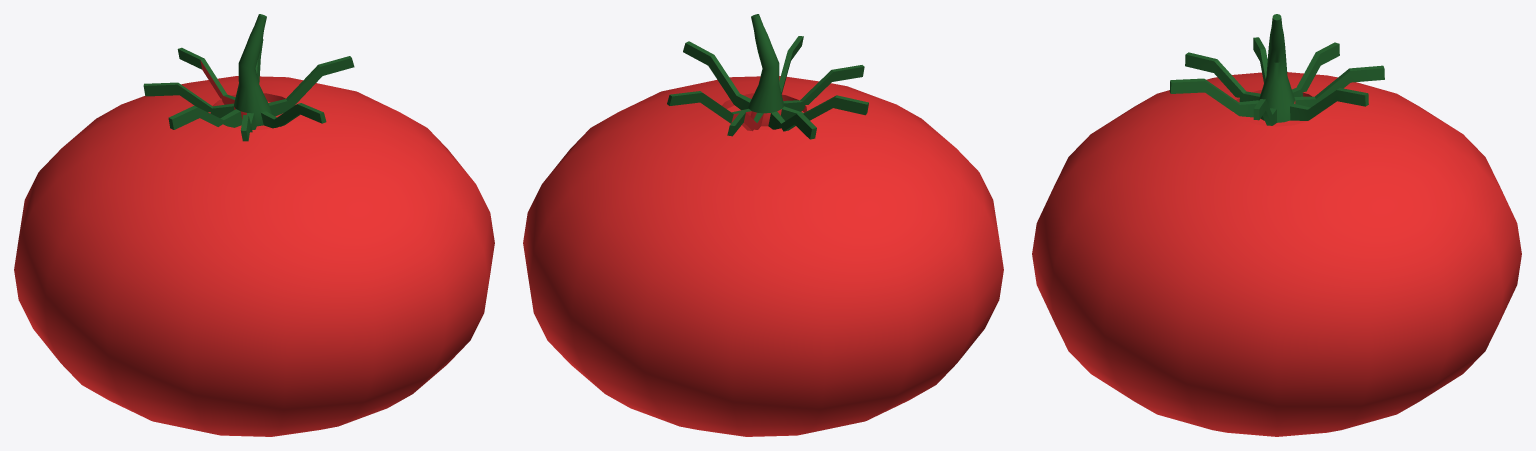
Rendered from tomato.fbx.
3 renders of one model, left to right at view 1: azimuth 30°, elevation 25°; view 2: azimuth 150°, elevation 25°; view 3: azimuth 270°, elevation 25°, orthographic.
Parts seen in each view (by area): view 1: Sphere.001; view 2: Sphere.001; view 3: Sphere.001.
Boxes of the visible parts, <box> form: Sphere.001: <box>14,14,494,436</box>; Sphere.001: <box>523,14,1003,436</box>; Sphere.001: <box>1032,14,1521,436</box>.
Bounding box in the file's own units: 51.81 × 45.6 × 51.81.
